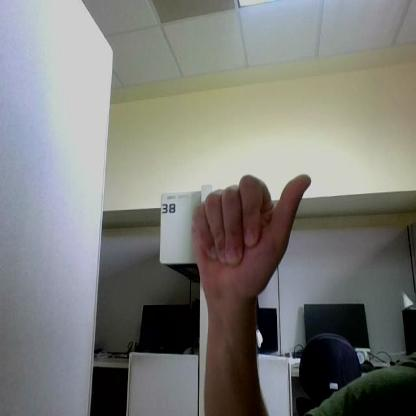A: (192, 174, 310, 302)
